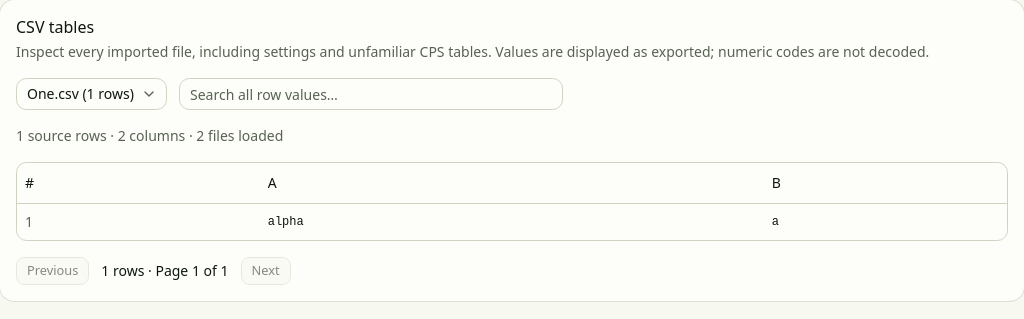
Test: switching file shows that file and clears the active search
This screenshot has width=1024, height=319.
In the field named "Search CSV table": (371, 94) x1=179 y1=78 x2=563 y2=110, type "alpha"
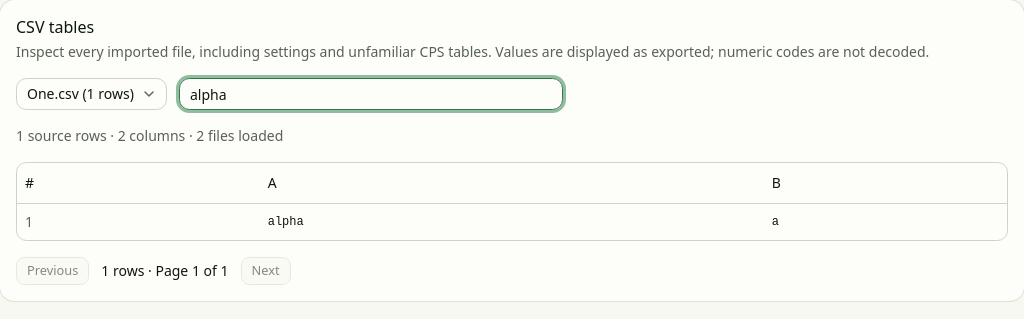
Select "Two.csv (1 rows)" in the dropdown named "CSV file": (92, 94) x1=16 y1=78 x2=167 y2=110
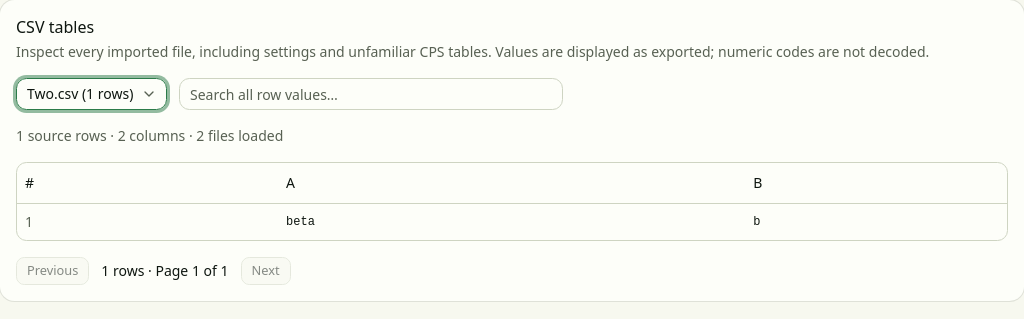
Expected: the field named "Search CSV table" is empty, x1=179 y1=78 x2=563 y2=110
Expected: the text "beta" is shown, x1=278 y1=203 x2=745 y2=240
Expected: the text "alpha" is gone
